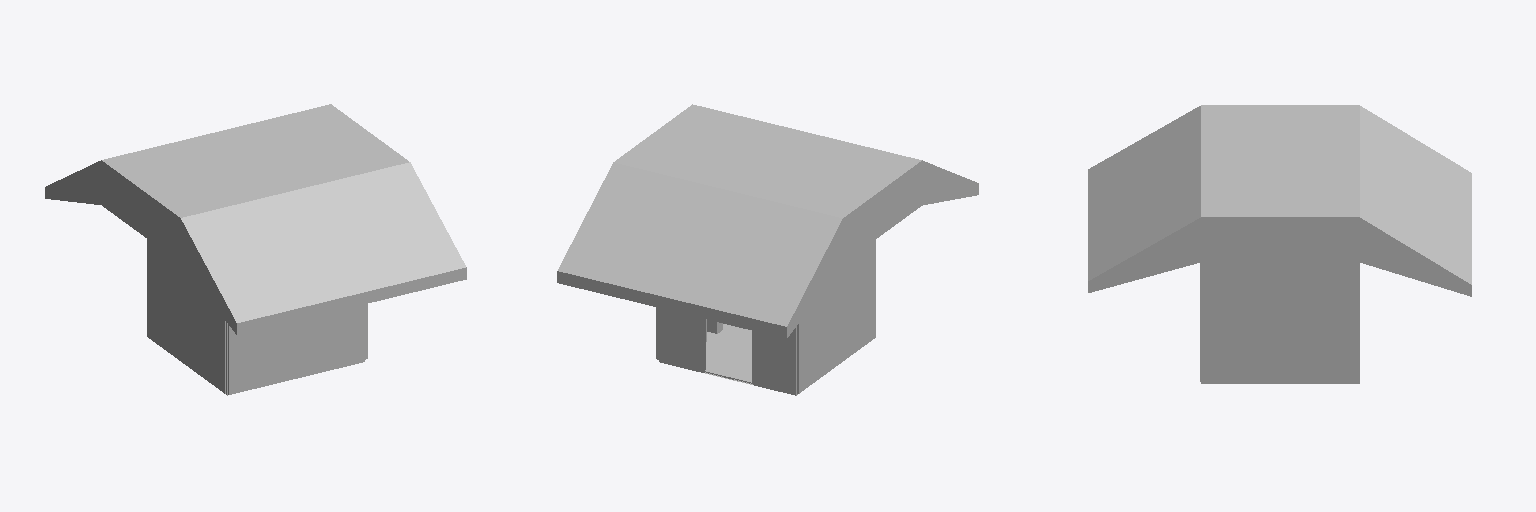
File: house.obj
3 renders of one model, left to right at view 1: azimuth 30°, elevation 25°; view 2: azimuth 150°, elevation 25°; view 3: azimuth 270°, elevation 25°, orthographic.
Parts seen in each view (by area): view 1: Cube_Cube.001; view 2: Cube_Cube.001; view 3: Cube_Cube.001.
Boxes of the visible parts, <box> form: Cube_Cube.001: <box>45,104,466,395</box>; Cube_Cube.001: <box>557,104,978,395</box>; Cube_Cube.001: <box>1088,105,1471,383</box>.
Bounding box in the file's own units: 12.25 × 9.66 × 17.7.